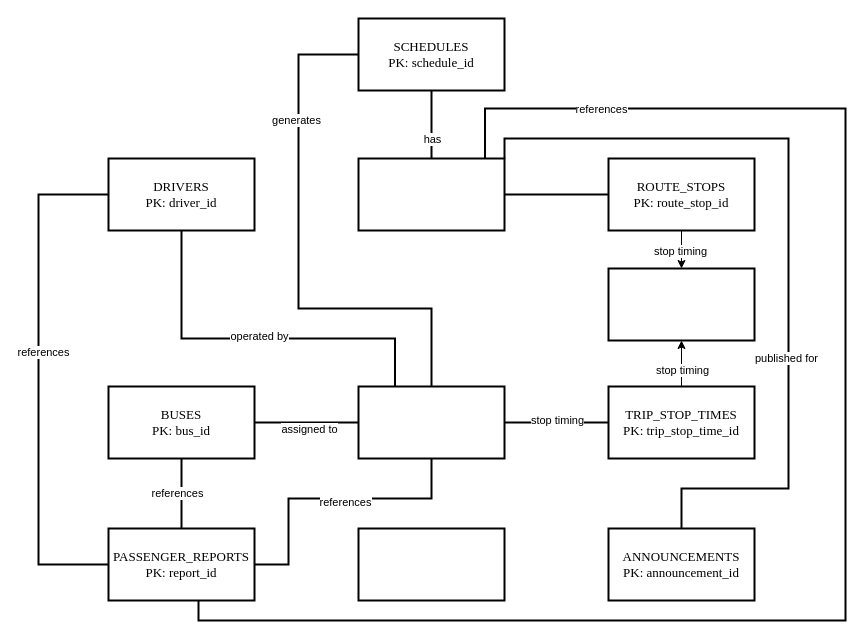
Some shapes in this 865 by 639 pixel diagram are drawn without their labels. Here are the shapes that lost their labels. From the top down, the box of each, then its label:
(357, 157, 505, 231): ROUTES PK: route_id
(607, 267, 755, 341): STOPS PK: stop_id
(357, 385, 505, 459): TRIPS PK: trip_id
(357, 527, 505, 601): ADMINS PK: admin_id
